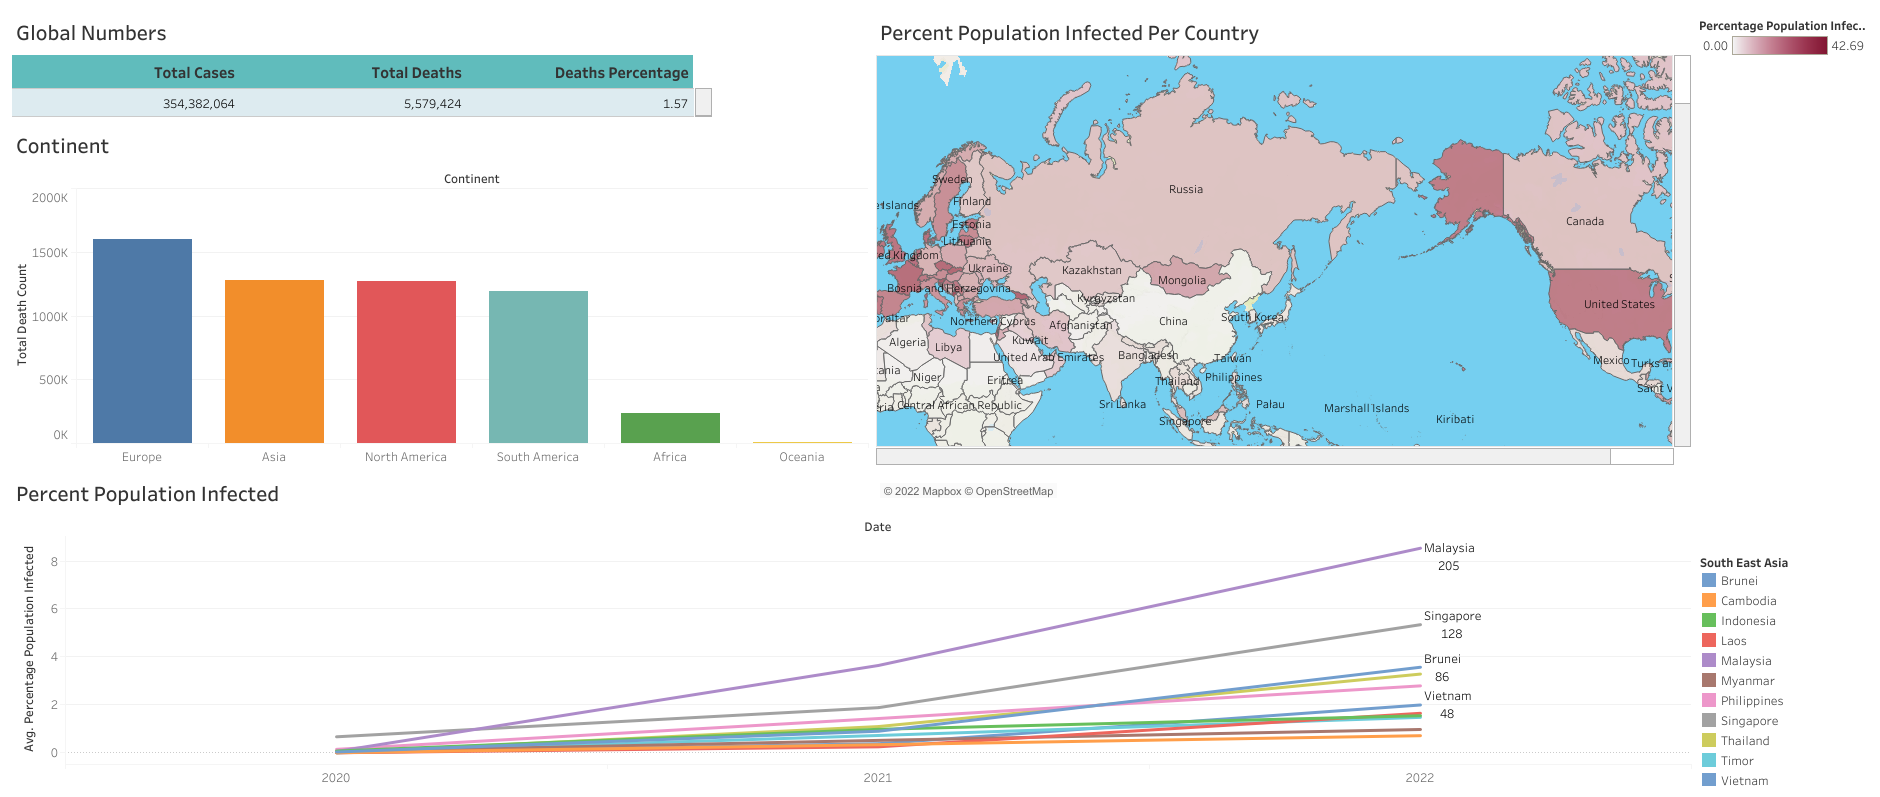

Layout of this report page (visuals, bound fields, positions):
{"tool":"tableau","page":{"name":"Dashboard 1","canvas":[1000,1000],"units":"permille","ordinal":0},"visuals":[{"type":"worksheet","title":"Sheet 1","mark":"Automatic","box":[4.8,8.8,458.7,141.6]},{"type":"worksheet","title":"Sheet 3","mark":"Automatic","box":[463.4,8.8,437,578.9]},{"type":"legend","title":"Sheet 3","param":"[federated.0ugx6411k5vb5l10kdb5m050foui].[sum:PercentagePopulationInfected:qk]","box":[900.5,8.8,94.8,596.2]},{"type":"worksheet","title":"Sheet 2","mark":"Automatic","rows":["TotalDeathCount"],"cols":["location"],"box":[4.8,150.4,458.7,437.3]},{"type":"worksheet","title":"Sheet 4","mark":"Automatic","rows":["PercentagePopulationInfected"],"cols":["date"],"box":[4.8,587.7,895.7,403.4]},{"type":"legend","title":"Sheet 4","param":"[federated.0qk8m9b1omuxfa18o7le01o52e7x].[none:location:nk]","box":[900.5,605.1,94.8,272.1]}]}

Visuals, with their boxes on the dashboard's canvas, which has no fixed pixel size, in thousandths of its width and height (x1, y1, x2, y2). These are canvas units, not pixel positions in the 1880x797 screenshot, which may show the page scaled, cropped or inside an application window:
"Sheet 1" worksheet: 5/9/464/150
"Sheet 3" worksheet: 463/9/900/588
"Sheet 3" legend: 900/9/995/605
"Sheet 2" worksheet: 5/150/464/588
"Sheet 4" worksheet: 5/588/900/991
"Sheet 4" legend: 900/605/995/877
